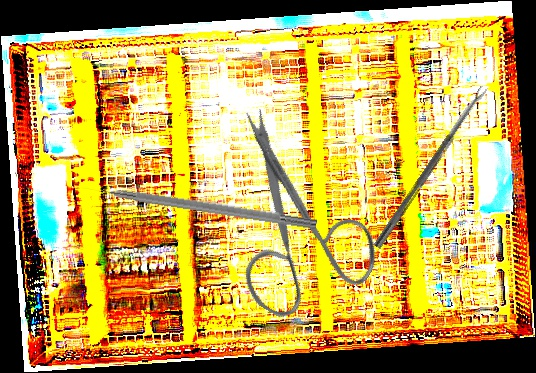Hook Surgical: (81, 179, 318, 231)
Iris Scissors: (163, 102, 414, 347)
Surgical Spoon: (373, 85, 489, 250)
